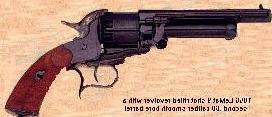gun: (1, 1, 272, 117)
